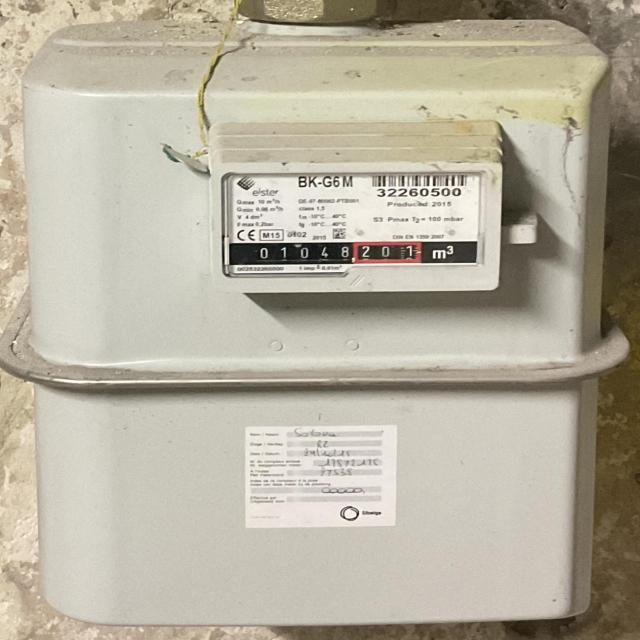gaz_meter: (222, 170, 485, 276)
indication: (223, 242, 429, 265)
